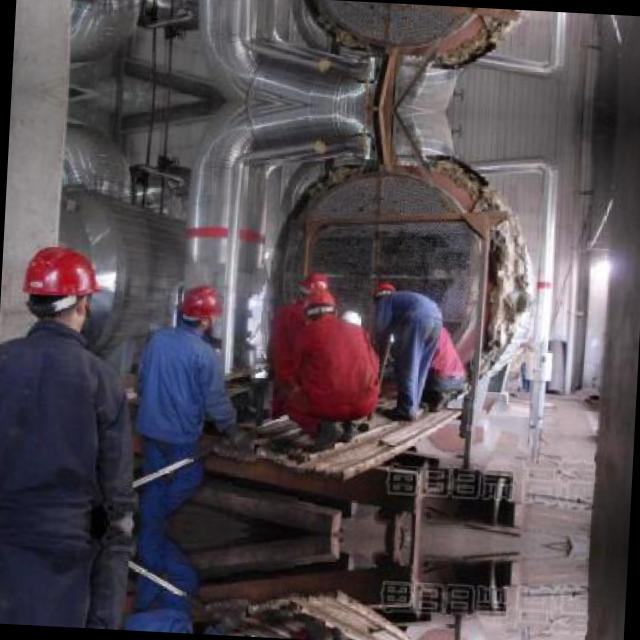helmet: (17, 236, 106, 331), (175, 278, 222, 334), (304, 288, 337, 328), (302, 268, 332, 298), (372, 278, 397, 304)
